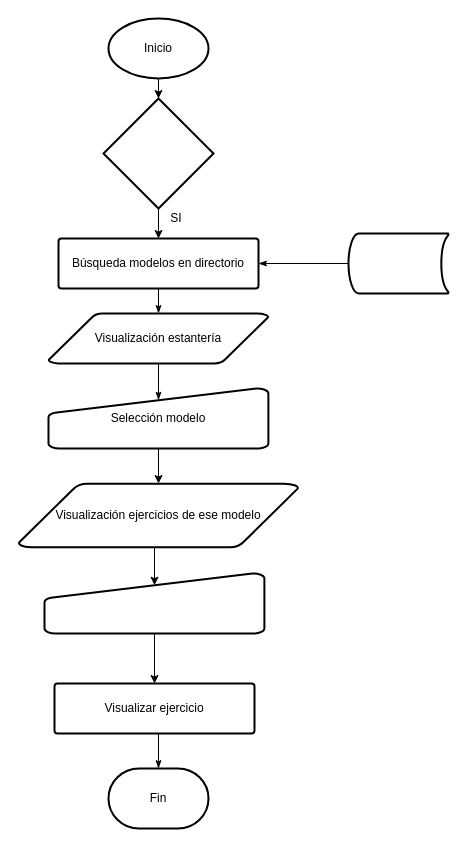
Image size: 466x846. Some labels were removed from this diagram. The shapes that lost their labels are listed below. From the top down, each one's centre as x and y in pixels, then its label:
point 158,153: ¿Rol de profesor?
point 398,263: Modelos
point 154,603: Selección ejercicio
